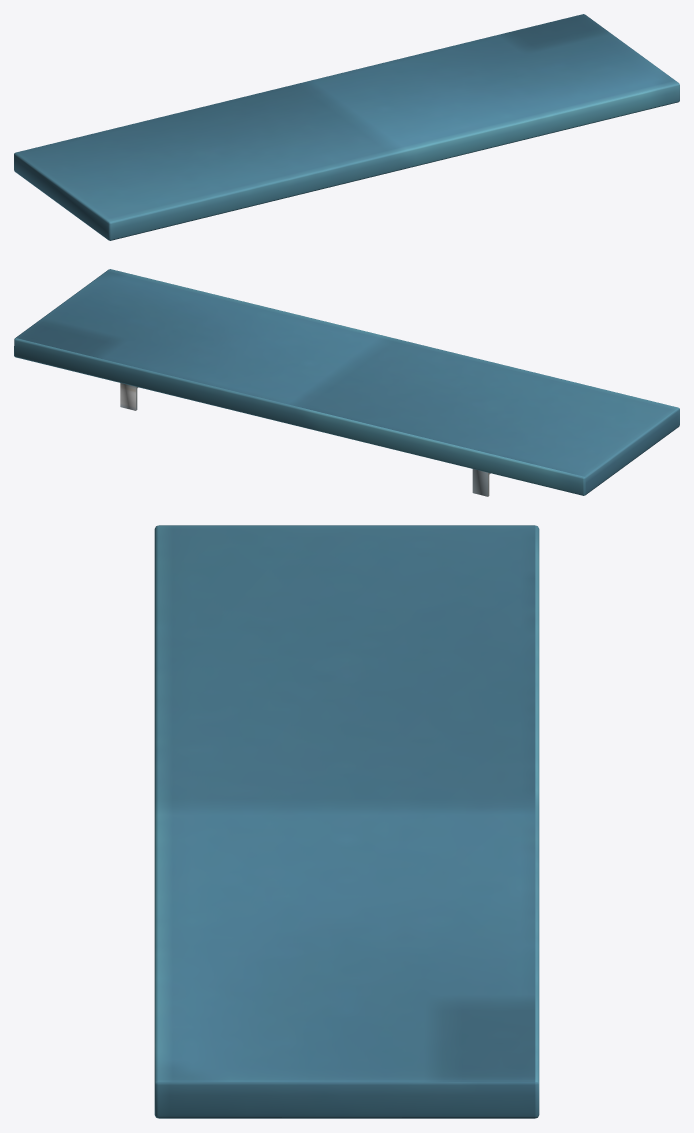
Rendered from EE_WallMountShelves_01.gltf.
The picture shows the model from 3 angles, top to bottom: view 1: azimuth 30°, elevation 25°; view 2: azimuth 150°, elevation 25°; view 3: azimuth 270°, elevation 25°; orthographic projection. The views are drawn at different scales.
Visible parts, largest first — view 1: EE_WallMountShelves_01.001; view 2: EE_WallMountShelves_01.001; view 3: EE_WallMountShelves_01.001.
Boxes of the visible parts, x1=… form: EE_WallMountShelves_01.001: x1=14, y1=14, x2=679, y2=240; EE_WallMountShelves_01.001: x1=14, y1=269, x2=679, y2=496; EE_WallMountShelves_01.001: x1=154, y1=525, x2=539, y2=1118.
Size of what is drawn, in the model's own units: 1.63 by 0.1198 by 0.4764.
Materials: 2 (2 with a texture image).
